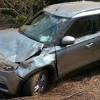Front-Windscreen-Damage: (21, 8, 70, 43)
bonnet-dent: (0, 29, 42, 60)
fender-dent: (21, 47, 56, 84)
